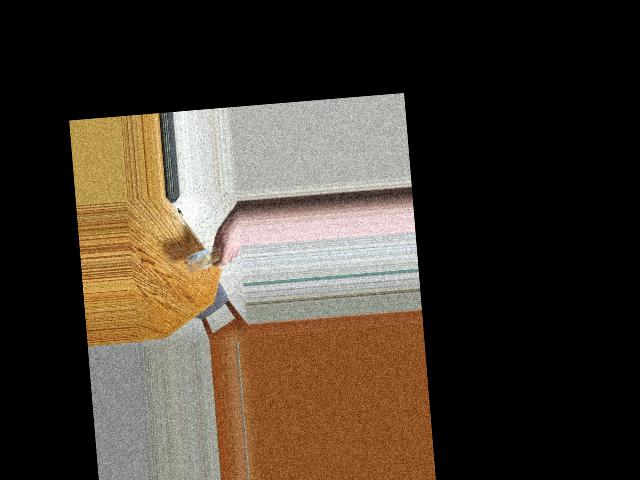cheese: (187, 239, 222, 272)
